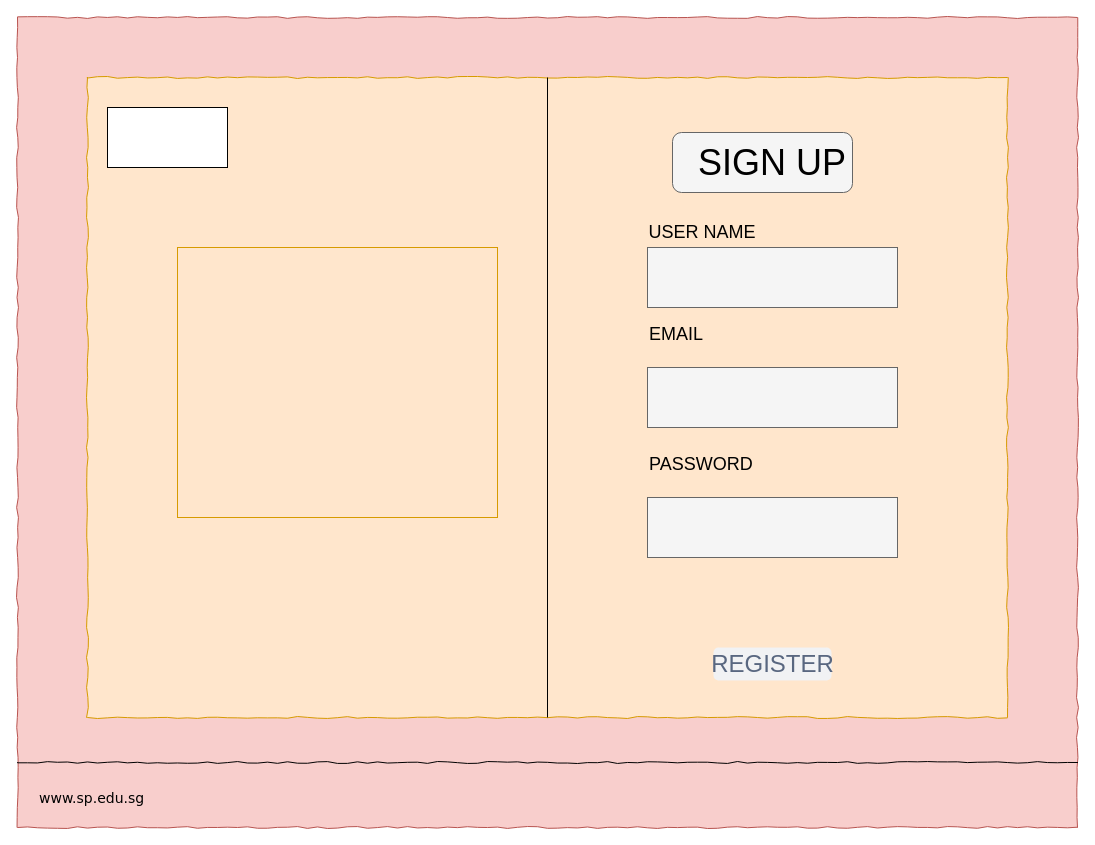
This 1095x845 diagram has some shape labels left out. The centre of each missing label's shape, as x and y in pixels:
"LOGO" belongs at (167,137).
"WELCOME TO FRUIT DETECTIVE" belongs at (337,382).
